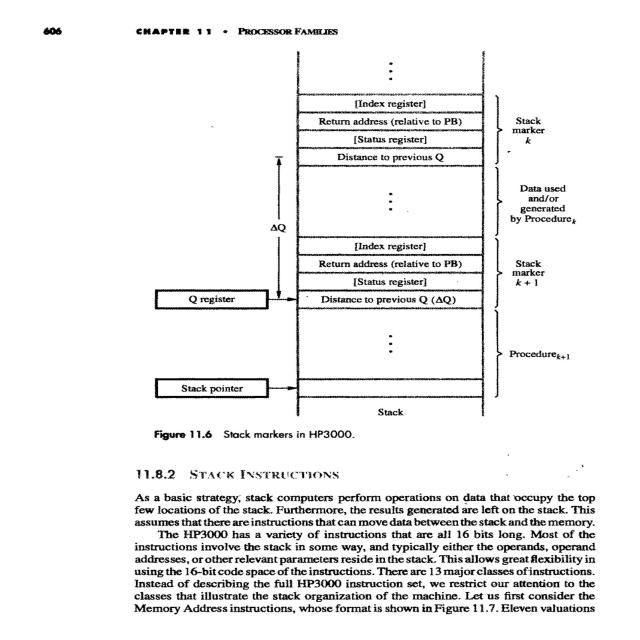diagram: (70, 39, 595, 444)
